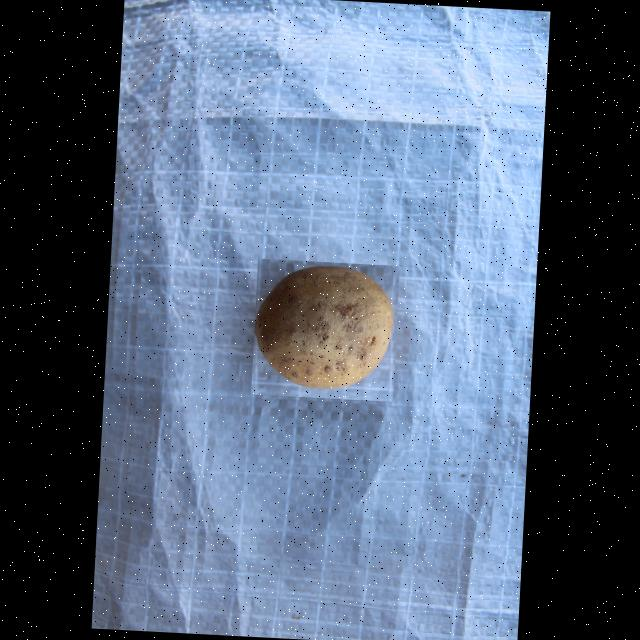Diseased-fungal potato: (250, 258, 399, 402)
